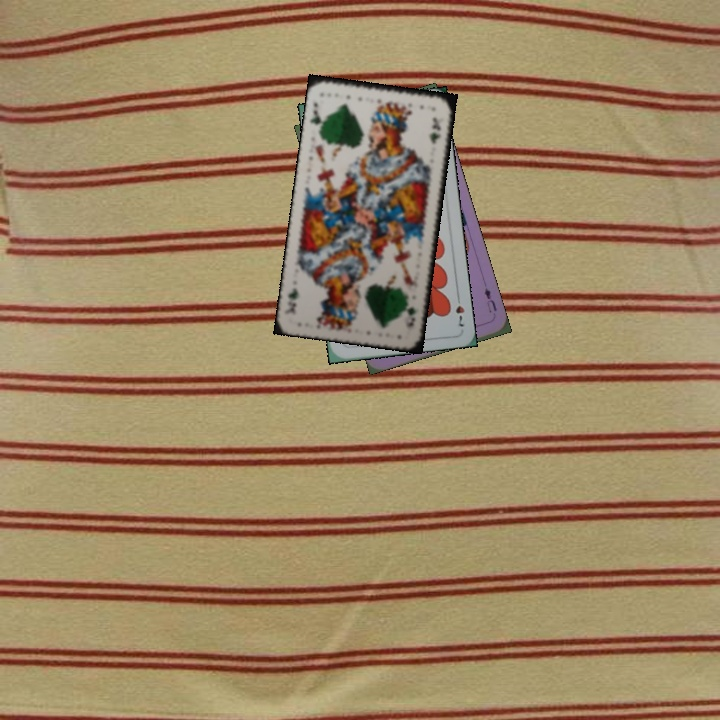EU: (480, 284, 500, 316)
GK: (306, 98, 327, 132), (402, 294, 418, 330)
H7: (452, 290, 467, 329)
